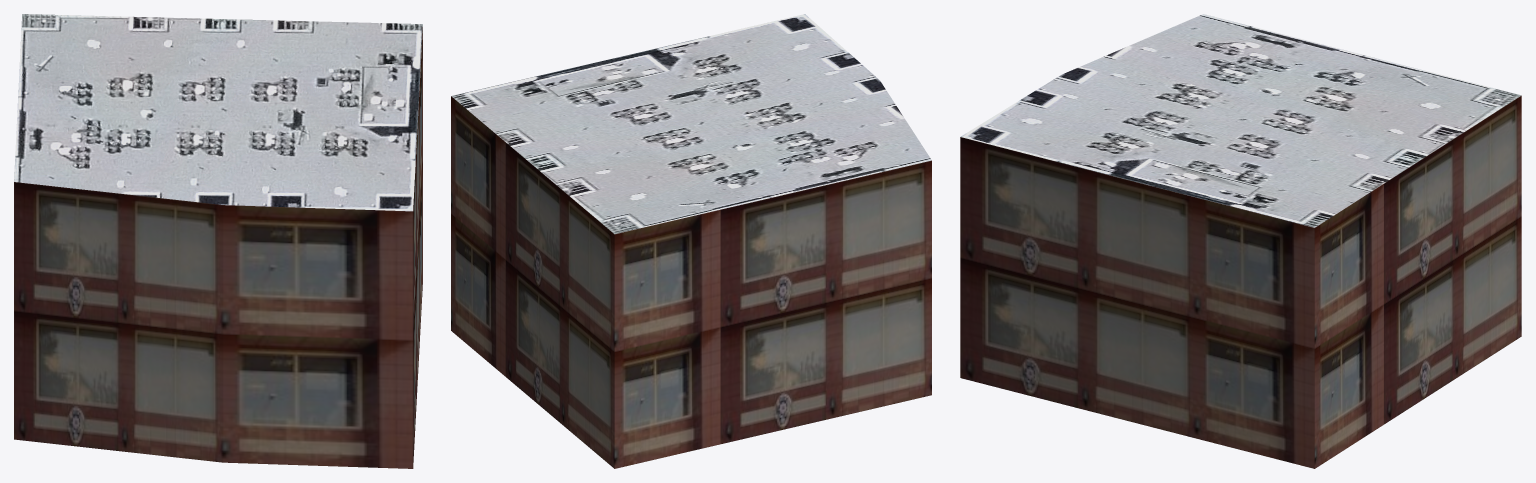
The model's file is ResTex__2688.fbx.
3 renders of one model, left to right at view 1: azimuth 30°, elevation 25°; view 2: azimuth 150°, elevation 25°; view 3: azimuth 270°, elevation 25°, orthographic. The views are drawn at different scales.
Visible parts, largest first — view 1: CityEngineMaterial_13_m, CityEngineMaterial_8_m; view 2: CityEngineMaterial_13_m, CityEngineMaterial_8_m; view 3: CityEngineMaterial_13_m, CityEngineMaterial_8_m.
Part boxes in pixels (<box>): CityEngineMaterial_13_m: <box>14,27,422,468</box>; CityEngineMaterial_8_m: <box>14,14,422,211</box>; CityEngineMaterial_13_m: <box>451,96,931,468</box>; CityEngineMaterial_8_m: <box>451,14,931,234</box>; CityEngineMaterial_13_m: <box>960,95,1521,468</box>; CityEngineMaterial_8_m: <box>960,14,1521,227</box>.
Bounding box in the file's own units: 11.42 × 6 × 12.67.
Materials: 2 (2 with a texture image).
